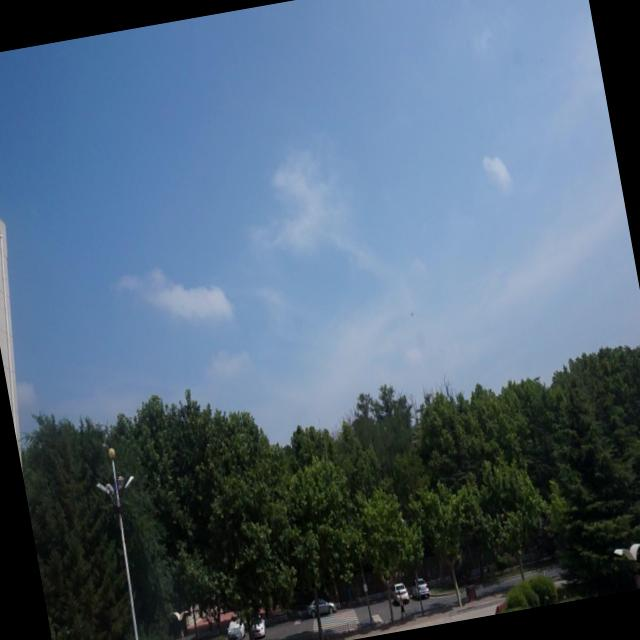drone: (408, 307, 416, 320)
